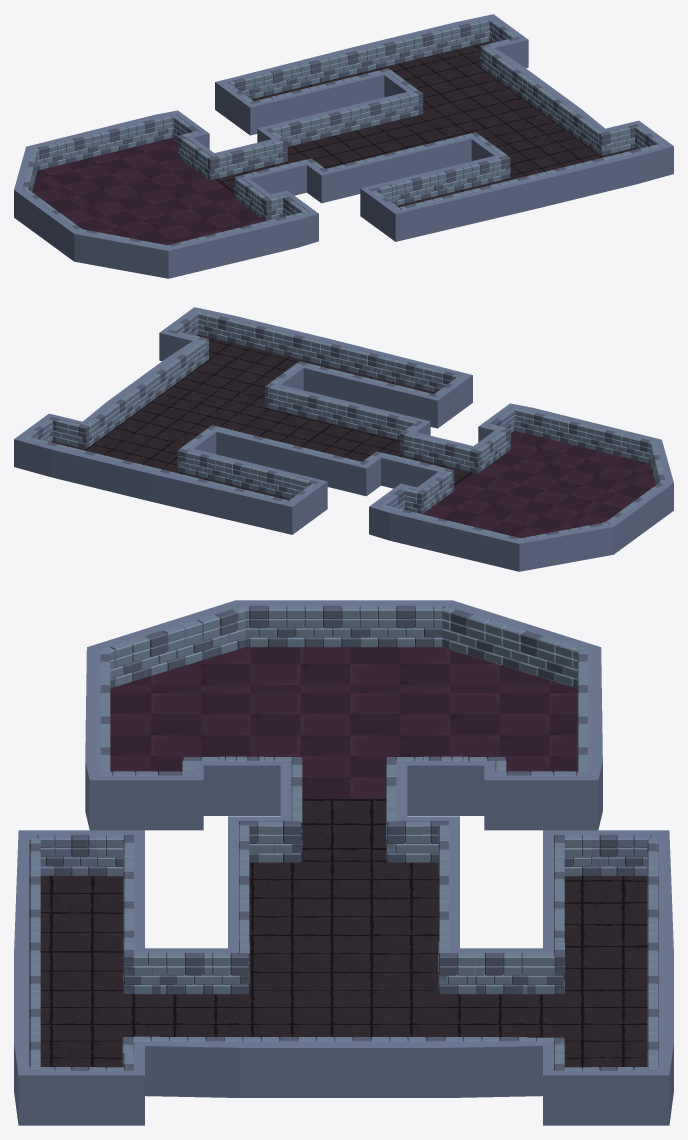
Rendered from Start (4).fbx.
3 views of the same model, one above another, from view 1: azimuth 30°, elevation 25°; view 2: azimuth 150°, elevation 25°; view 3: azimuth 270°, elevation 25° (orthographic). The views are drawn at different scales.
Visible parts, largest first — view 1: Start; view 2: Start; view 3: Start.
Boxes of the visible parts, bbox=[...] form: Start: bbox=[14, 14, 673, 278]; Start: bbox=[14, 307, 673, 571]; Start: bbox=[14, 600, 673, 1125].
Size of the model in its own units: 8119 by 403 by 4767.
